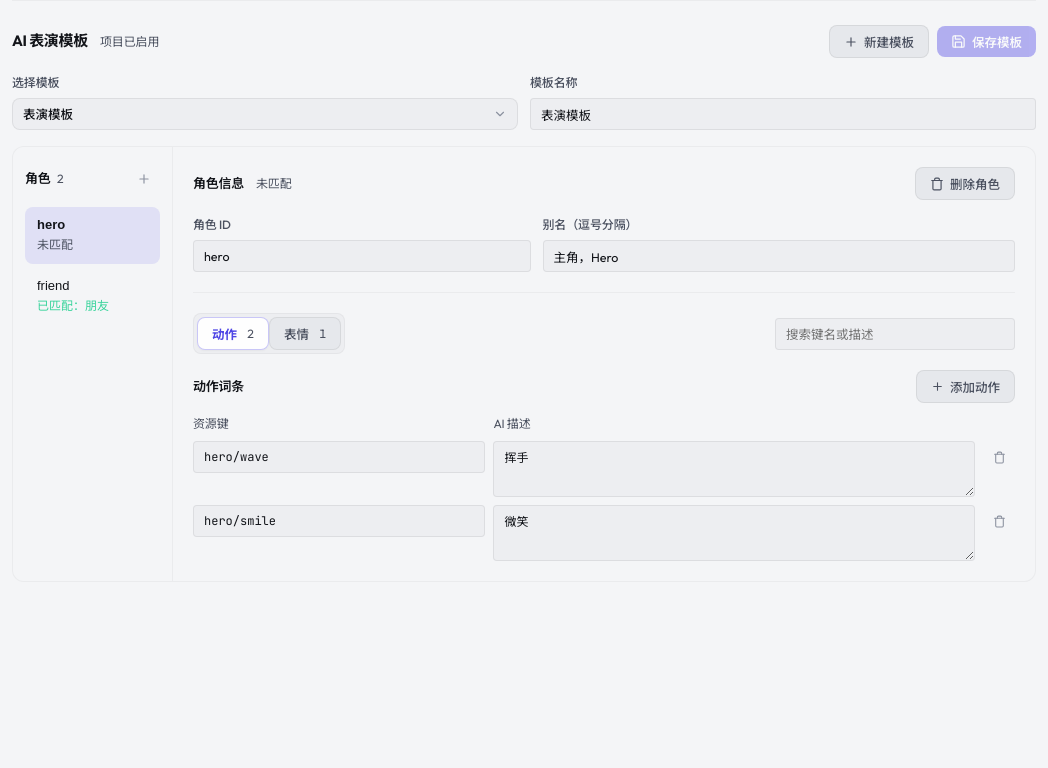
Test: TemplatePerformanceProfileEditor › shows conflict for every template role competing for one scene character
Replace the text in the field labelled "别名（逗号分隔）" with "朋友" at coordinates (779, 256), box x1=542 y1=240 x2=1015 y2=272
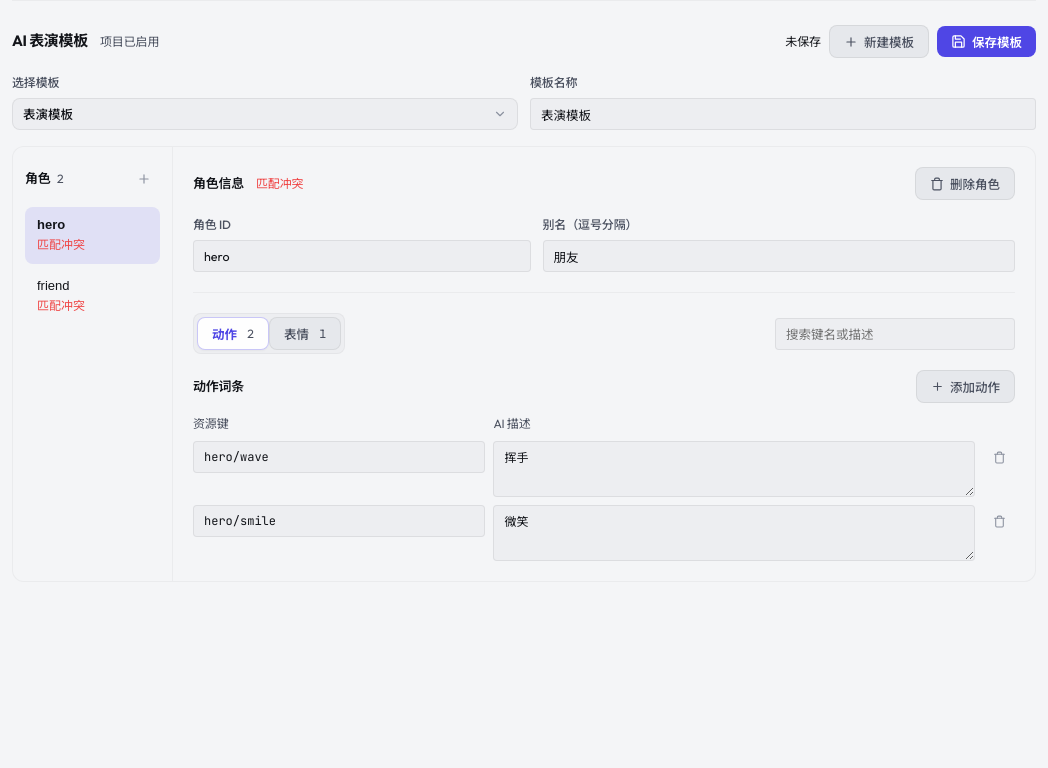
Result: the message named "角色匹配结果" reads "匹配冲突" at x1=256 y1=176 x2=304 y2=190
Result: the button "hero 匹配冲突" is shown at x1=25 y1=207 x2=160 y2=264
Result: the button "friend 匹配冲突" is shown at x1=25 y1=268 x2=160 y2=325
Replace the text in the field labelled "别名（逗号分隔）" with "主角" at coordinates (779, 256), box x1=542 y1=240 x2=1015 y2=272
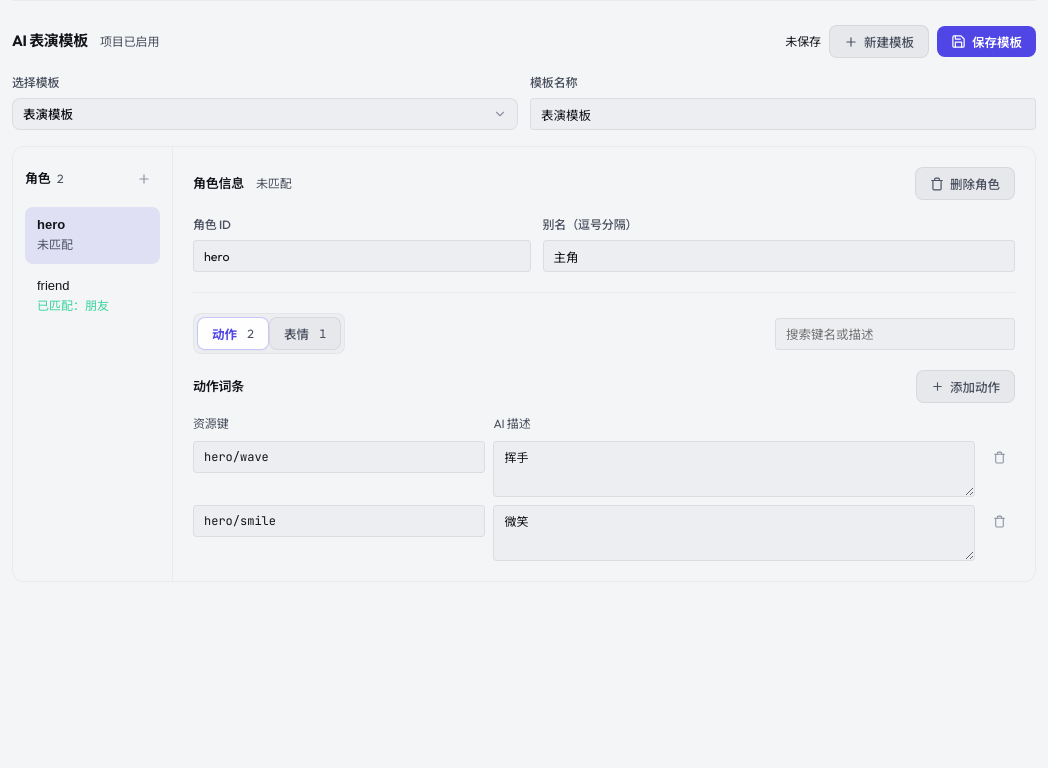
Result: the message named "角色匹配结果" reads "未匹配" at x1=256 y1=176 x2=292 y2=190
Result: the button "friend 已匹配：朋友" is shown at x1=25 y1=268 x2=160 y2=325
